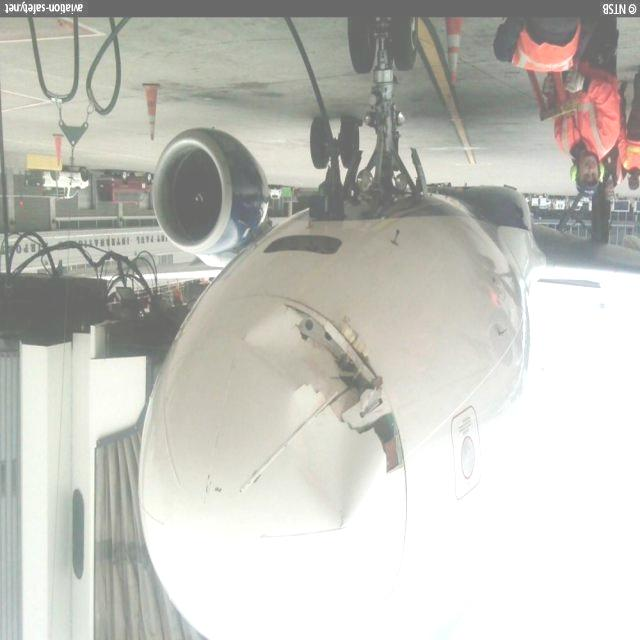dent: (288, 395, 367, 524), (240, 317, 317, 383)
